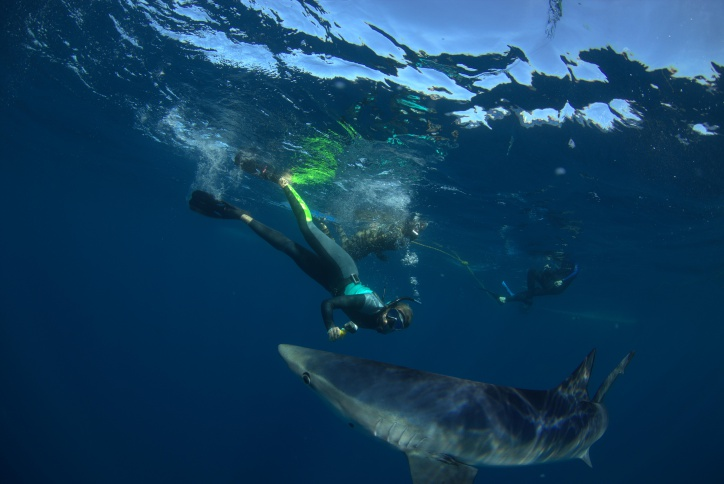Azul: (251, 331, 653, 484)
